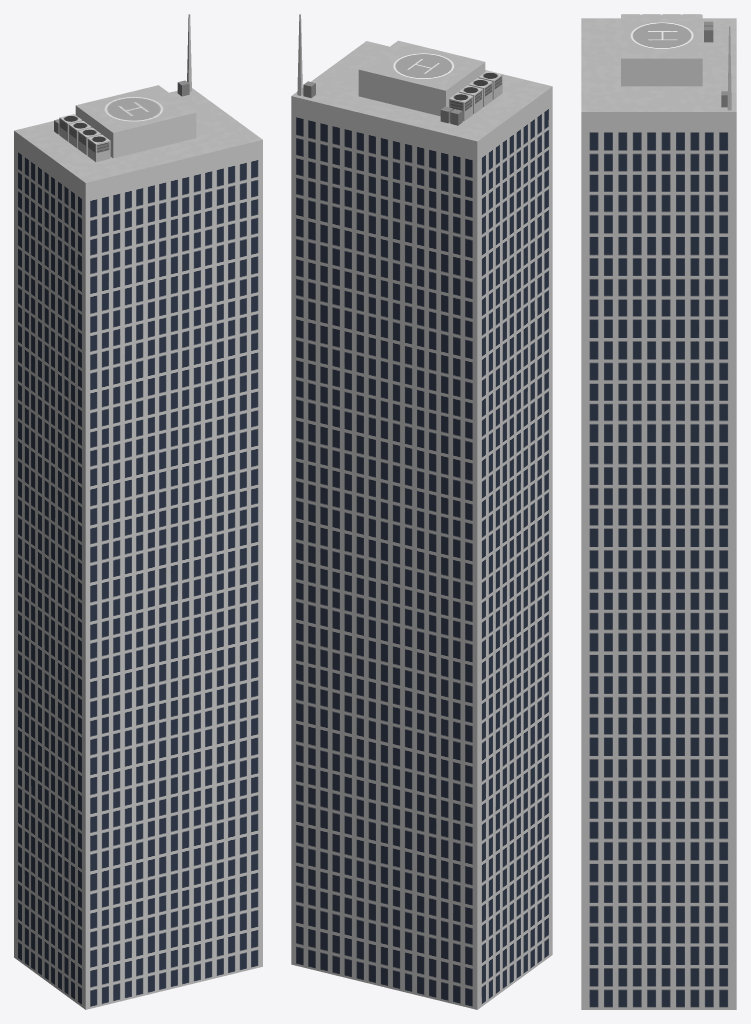
The model's file is Building_H_W3_001.fbx.
3 views of the same model, side by side, from view 1: azimuth 30°, elevation 25°; view 2: azimuth 150°, elevation 25°; view 3: azimuth 270°, elevation 25° (orthographic). The views are drawn at different scales.
Parts seen in each view (by area): view 1: Building_H_W3_001; view 2: Building_H_W3_001; view 3: Building_H_W3_001.
Part boxes in pixels (<box>): Building_H_W3_001: <box>14,14,262,1009</box>; Building_H_W3_001: <box>291,14,552,1009</box>; Building_H_W3_001: <box>581,14,736,1009</box>.
Size of the model in its own units: 42.49 by 207 by 29.75.
